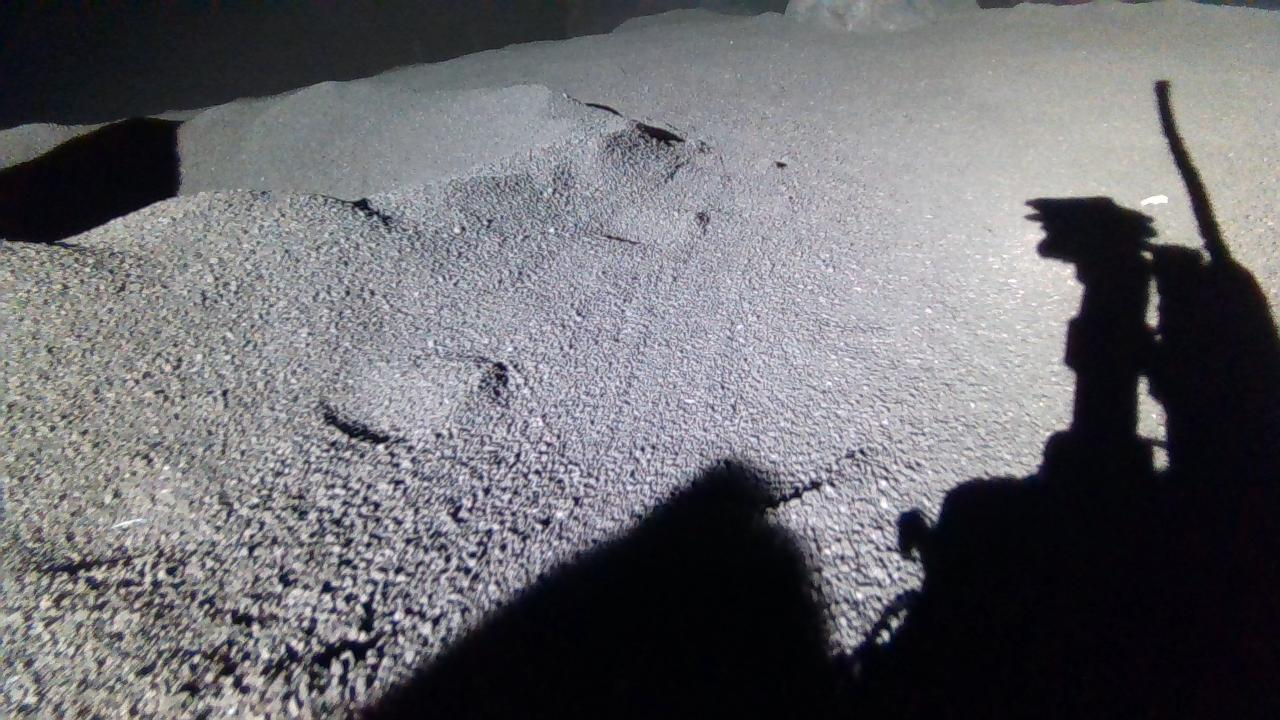rock: (786, 0, 938, 29)
